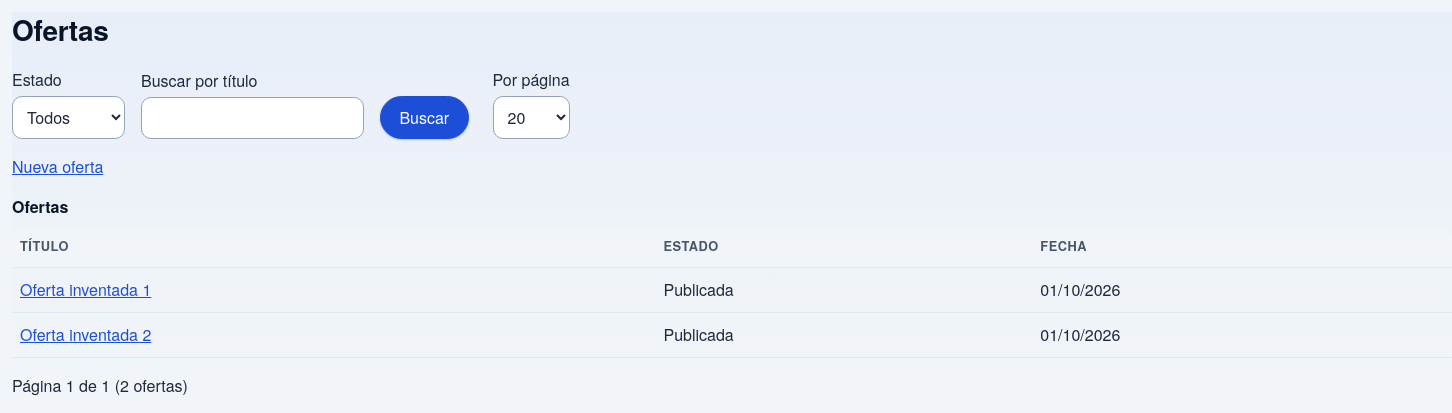
Test: JobListScreen · filtros, paginación y estados › EC-36 un fallo de red conserva los controles y ofrece «Reintentar»
Check: the table "Ofertas" is shown, box [12, 195, 1451, 358]
Select "Publicada" in the dropdown labelled "Estado" at (68, 118), box [12, 96, 125, 139]
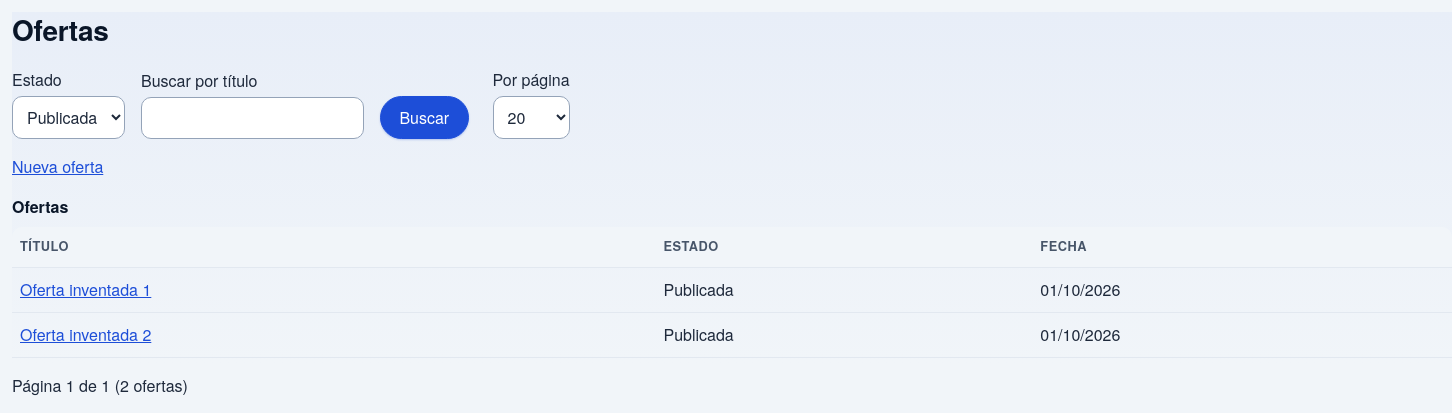
Type "gestion" into the search field labelled "Buscar por título" at (252, 118), box [141, 97, 364, 139]
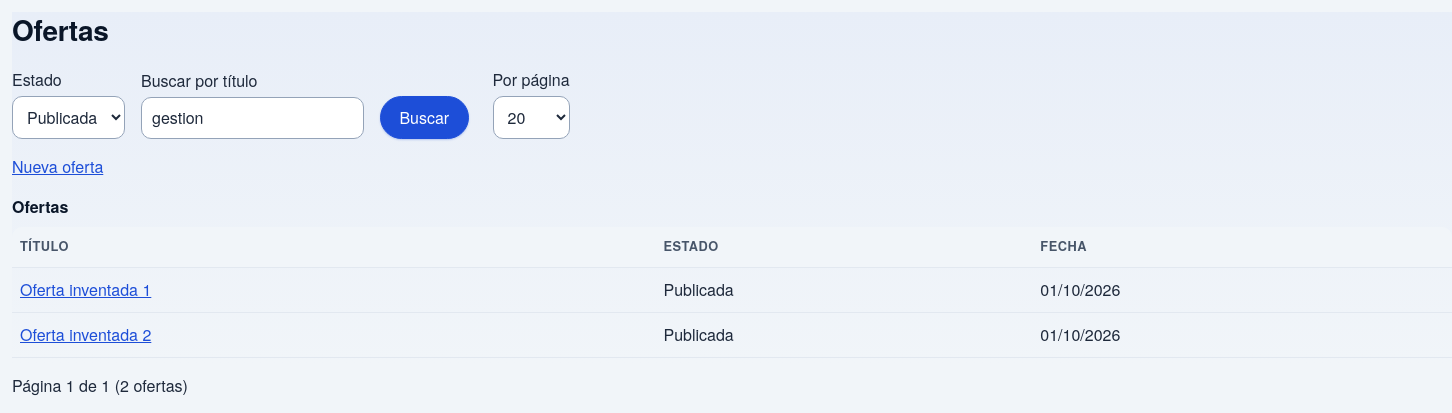
Click the button "Buscar" at (424, 118), box [380, 96, 469, 139]
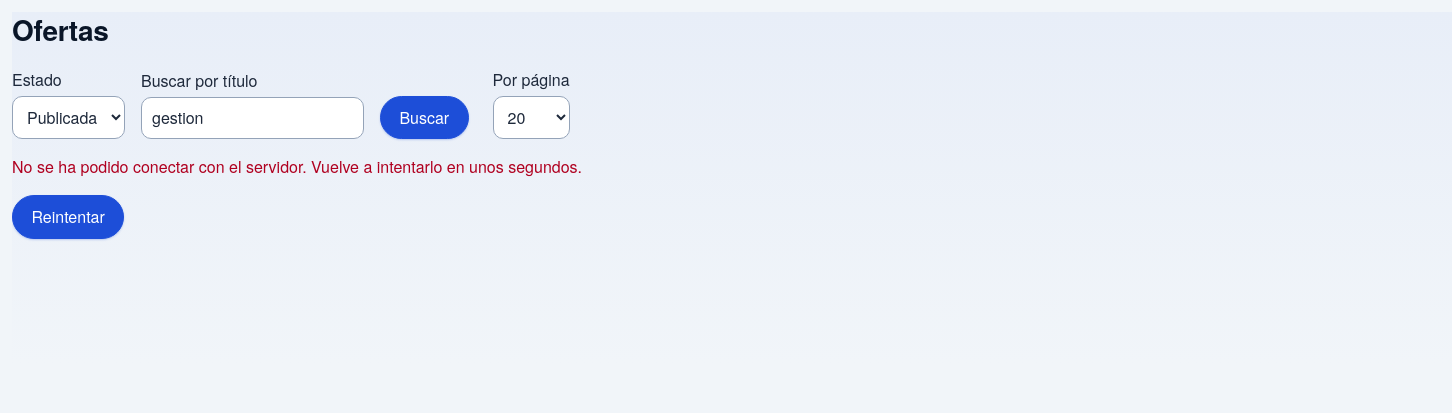
Check: the message reads "No se ha podido conectar con el servidor. Vuelve a intentarlo en unos segundos.", box [12, 155, 582, 178]
Check: the button "Reintentar" is shown, box [12, 195, 124, 239]
